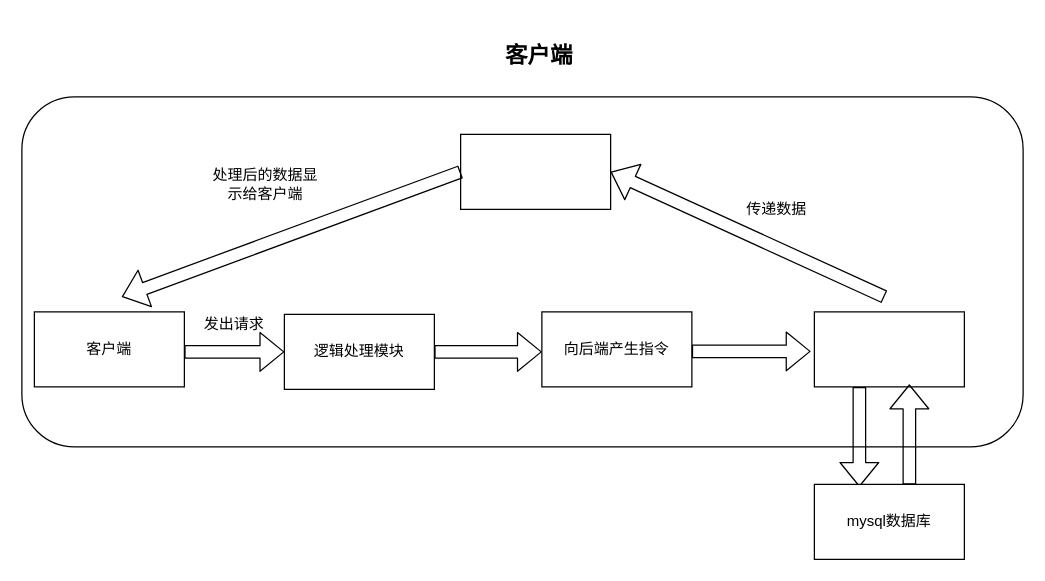
The diagram is 1045 pixels wide and 581 high, and some of its shapes have lost their labels. The shapes that lost their labels are listed below. From the top down, each one's centre as x and y in pixels, then its label:
At (x=535, y=171): "前端进行数据处理".
At (x=888, y=349): "后端进行指令处理".
